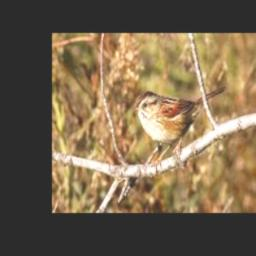Sparrow: (132, 87, 225, 174)
